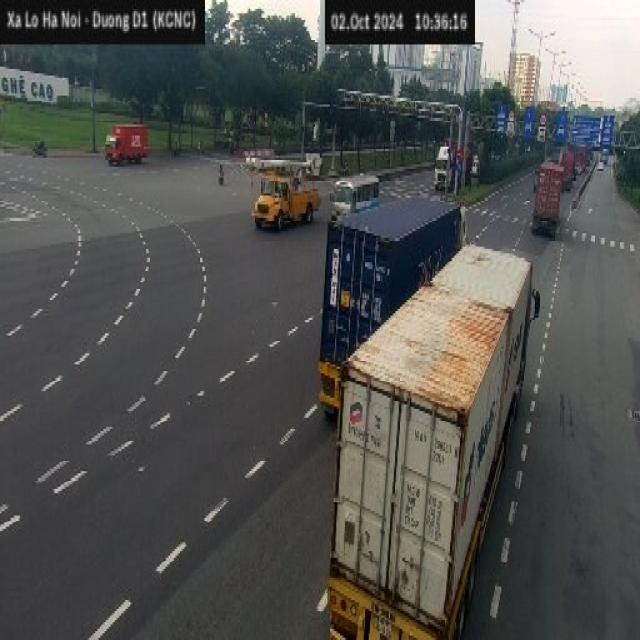container-truck: (322, 242, 540, 638), (318, 193, 468, 420)
truck: (104, 122, 148, 164)
